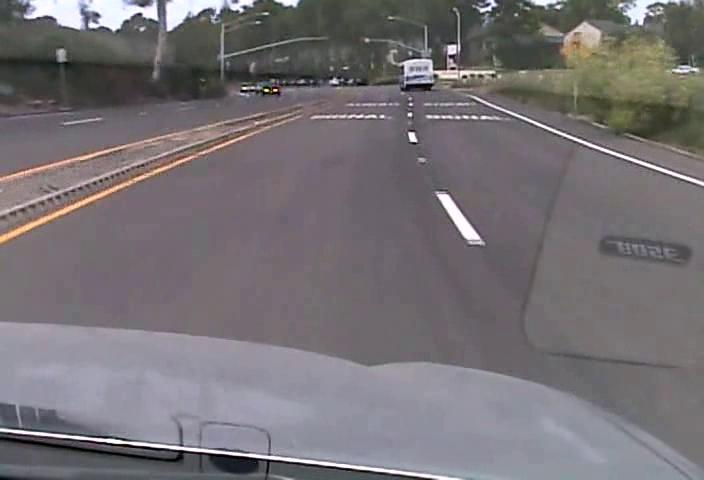signalAhead: (558, 36, 594, 68)
